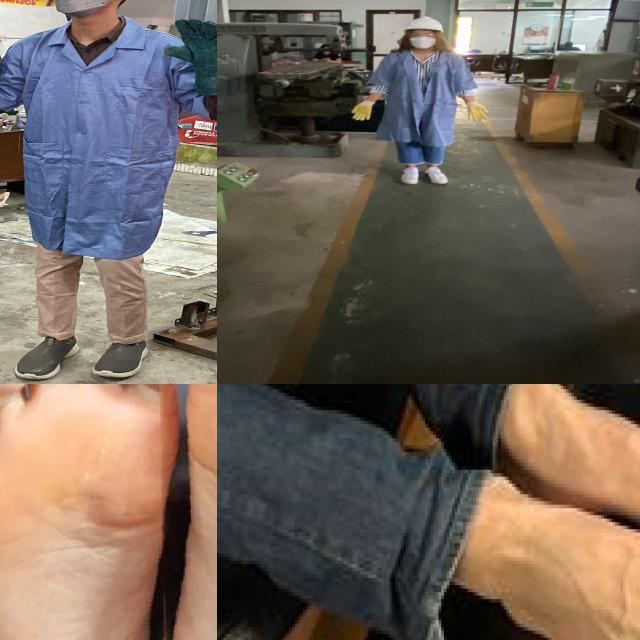Barefoots: (0, 384, 181, 640), (505, 433, 640, 640), (153, 384, 217, 640)
face_mask: (42, 0, 118, 17), (406, 30, 440, 49)
glasses: (404, 30, 437, 37)
hand_glove: (158, 16, 217, 69), (461, 101, 489, 123), (348, 101, 374, 121)
head_helmet: (403, 15, 446, 32)
person: (0, 0, 217, 384), (347, 15, 487, 190)
shoes: (5, 328, 91, 384), (86, 333, 159, 384), (395, 163, 424, 187), (422, 164, 450, 187)
